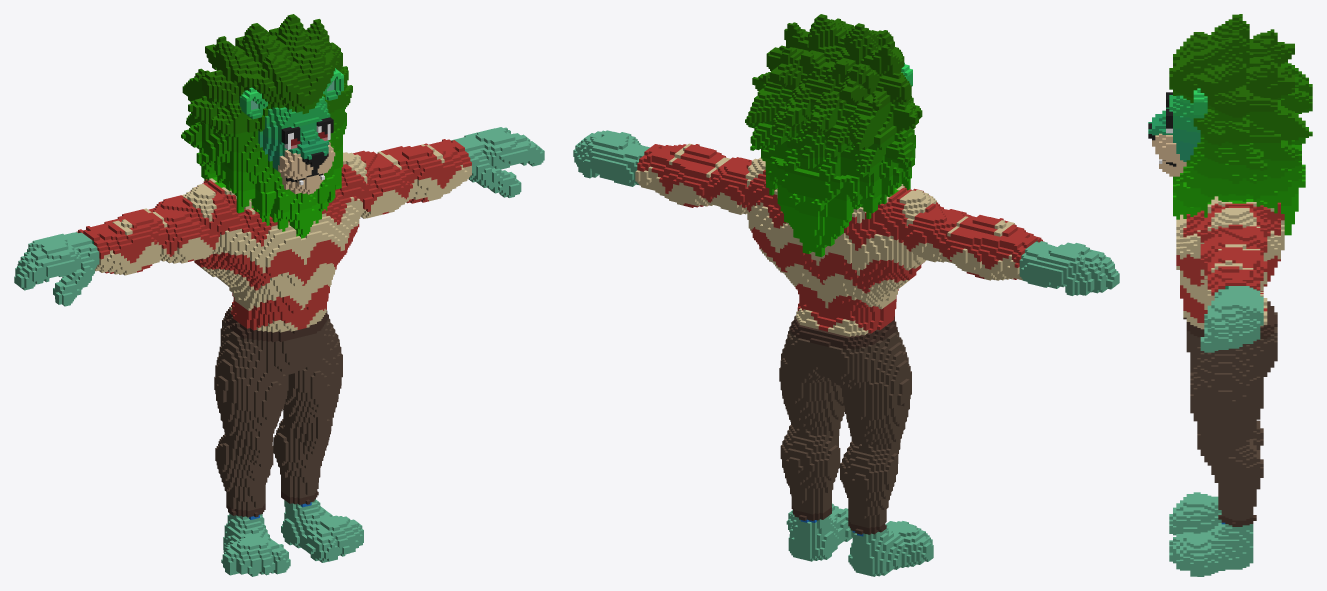
Rendered from 71-DtNZU2y2.fbx.
3 renders of one model, left to right at view 1: azimuth 30°, elevation 25°; view 2: azimuth 150°, elevation 25°; view 3: azimuth 270°, elevation 25°, orthographic. The views are drawn at different scales.
Visible parts, largest first — view 1: standard; view 2: standard; view 3: standard.
Part boxes in pixels (x1=…): standard: x1=14, y1=14, x2=544, y2=576; standard: x1=573, y1=14, x2=1119, y2=576; standard: x1=1148, y1=14, x2=1312, y2=576.
Size of the model in its own units: 17.2 by 16.5 by 4.7.
Materials: 5 (5 with a texture image).
